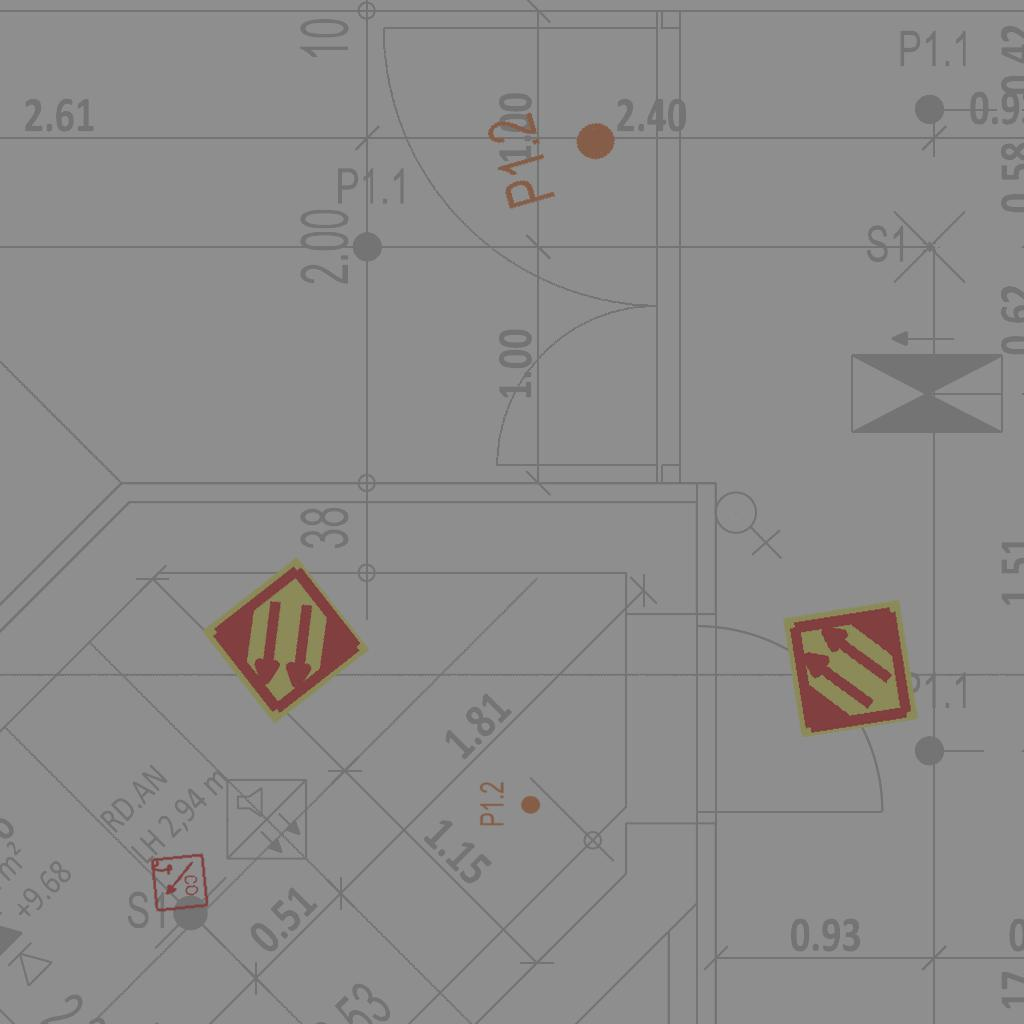ASR_Ansaugrauchmelder: (197, 552, 374, 729), (778, 596, 923, 741)
Downlight_LED_Einbauleuchten_Flur: (481, 88, 630, 214), (478, 781, 542, 827)
ROA_Rauchmelder_optisch_mit_Signalgeber_(Sockelsirene): (148, 852, 210, 914)
